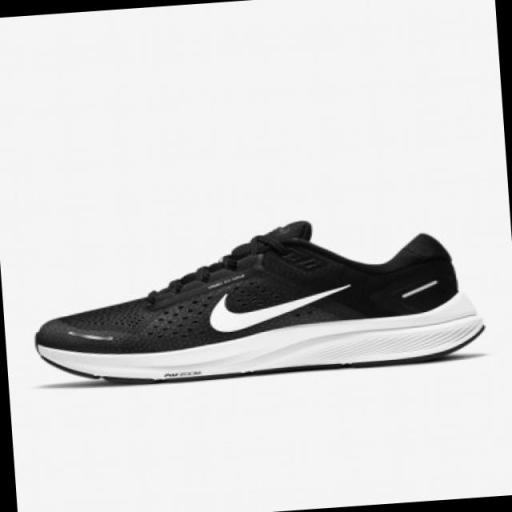Nike: (206, 280, 359, 335)
